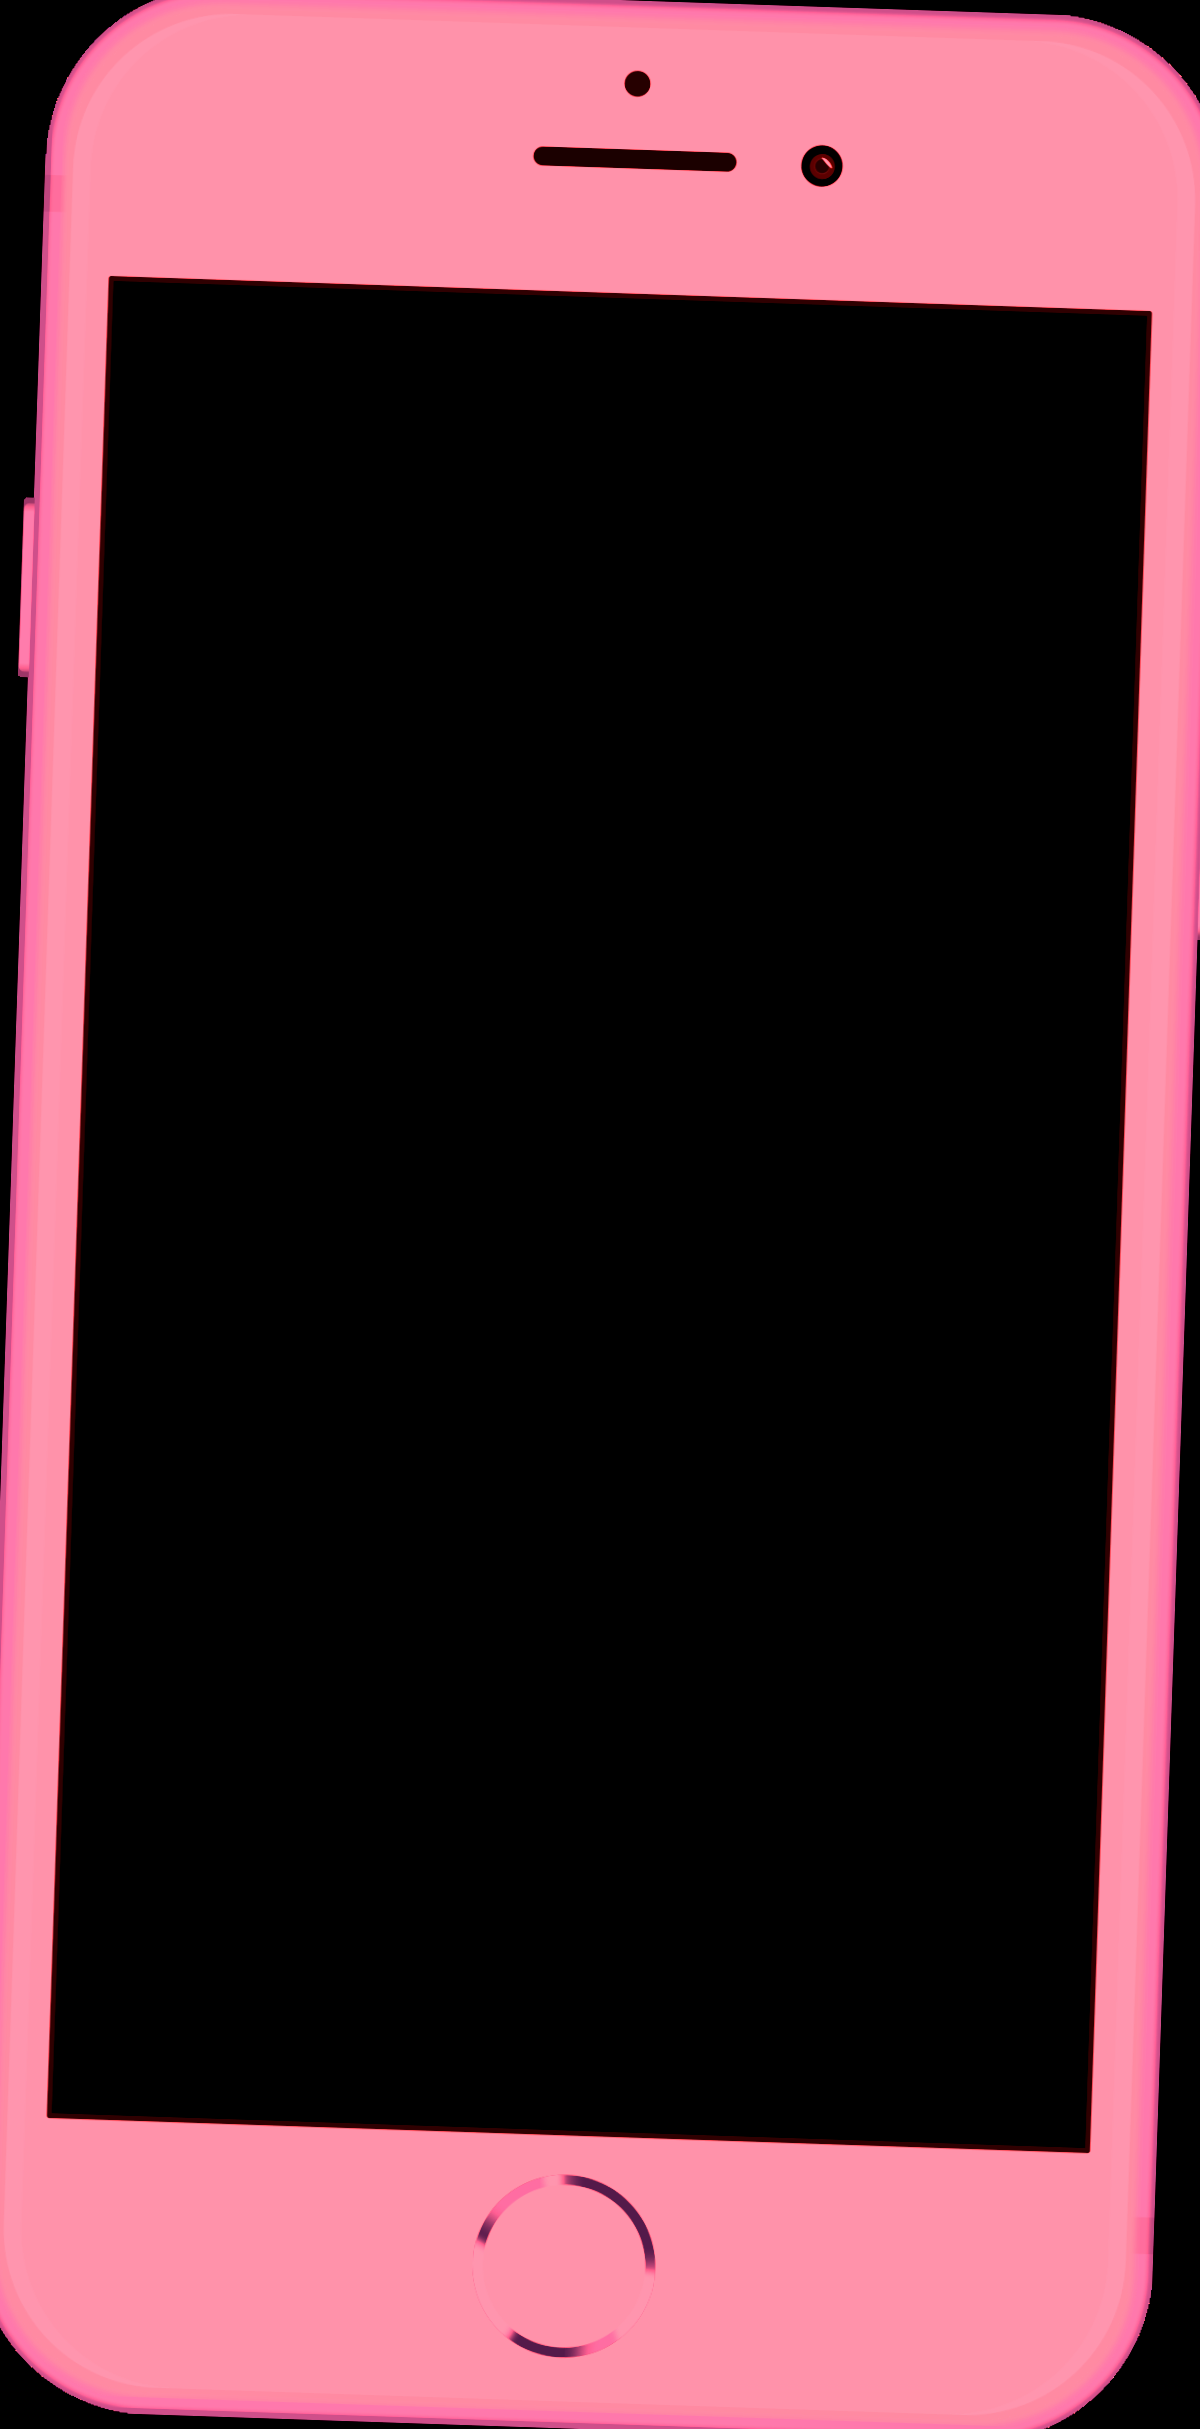iphone: (2, 5, 1200, 2424)
